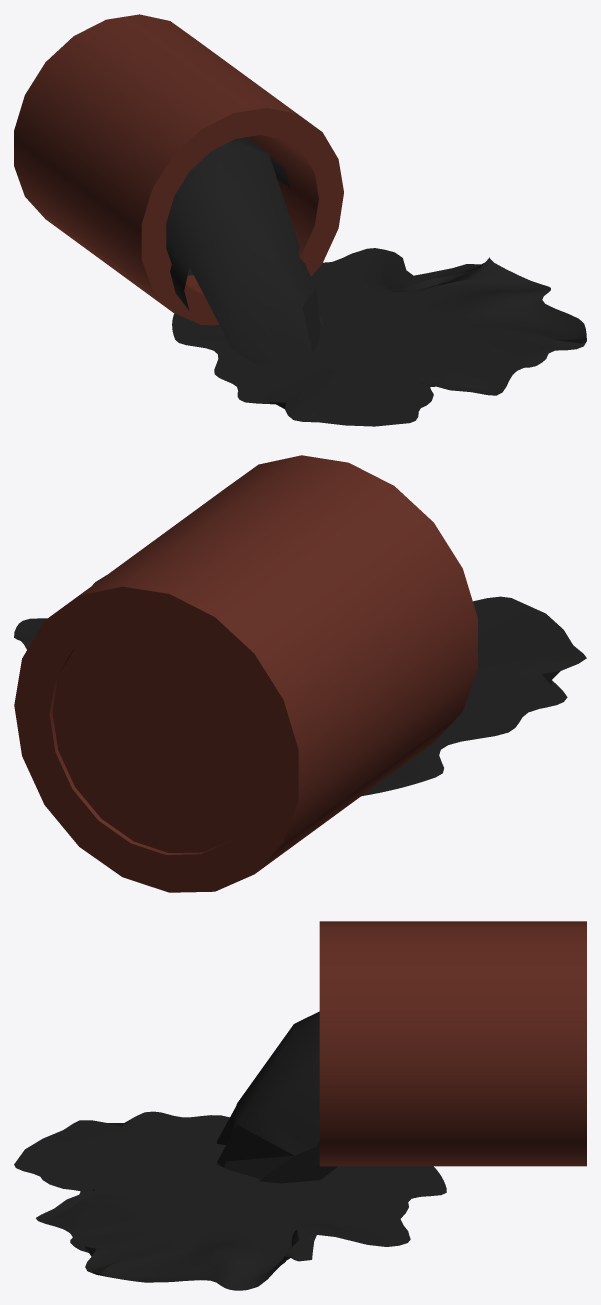
The model's file is oil object for unity.fbx.
The picture shows the model from 3 angles, top to bottom: view 1: azimuth 30°, elevation 25°; view 2: azimuth 150°, elevation 25°; view 3: azimuth 270°, elevation 25°; orthographic projection. The views are drawn at different scales.
Parts seen in each view (by area): view 1: oil_can, oil_on_ground, oil_in_can; view 2: oil_can, can_back, oil_on_ground; view 3: oil_can, oil_on_ground, oil_in_can.
Part boxes in pixels (box(x1,y1,x2,y2)): oil_can: box(14, 14, 343, 325); oil_on_ground: box(172, 248, 586, 426); oil_in_can: box(166, 137, 325, 363); oil_can: box(14, 455, 477, 892); can_back: box(52, 624, 263, 852); oil_on_ground: box(14, 575, 586, 796); oil_can: box(319, 921, 586, 1166); oil_on_ground: box(14, 1111, 446, 1290); oil_in_can: box(216, 1011, 337, 1183).
Size of the model in its own units: 277 by 180 by 358.
